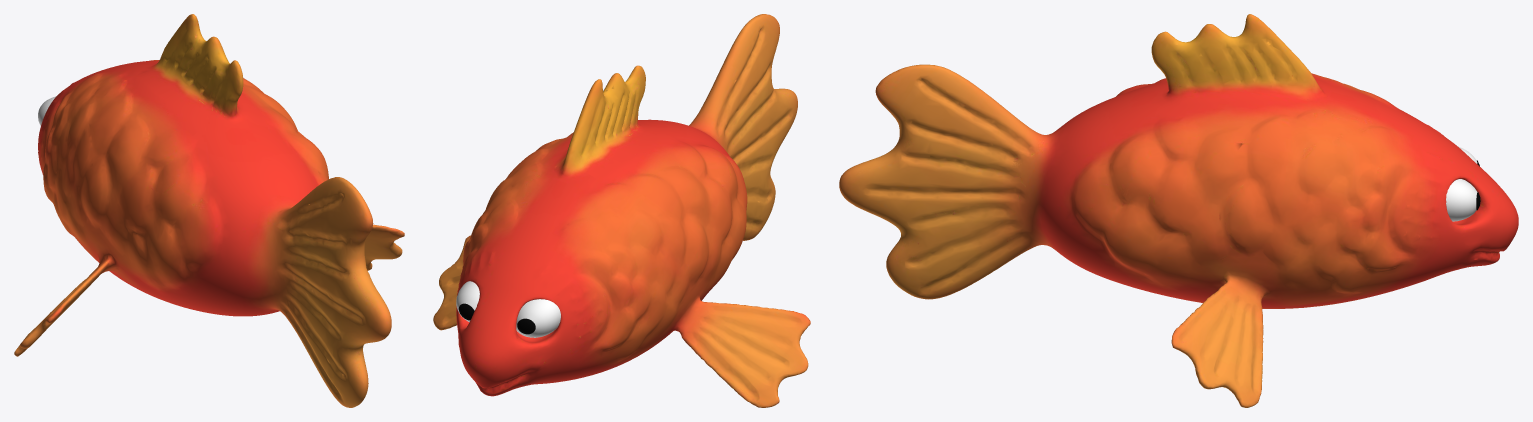
Rendered from fish_sculpt.glb.
3 views of the same model, side by side, from view 1: azimuth 30°, elevation 25°; view 2: azimuth 150°, elevation 25°; view 3: azimuth 270°, elevation 25° (orthographic). The views are drawn at different scales.
Visible parts, largest first — view 1: Cube.001; view 2: Cube.001, Sphere.001; view 3: Cube.001, Sphere.001.
Boxes of the visible parts, box(x1,y1,x2,y2) form: Cube.001: box(14, 14, 404, 407); Cube.001: box(433, 14, 810, 407); Sphere.001: box(456, 281, 560, 337); Cube.001: box(839, 14, 1518, 407); Sphere.001: box(1446, 146, 1480, 221).
Bounding box in the file's own units: 2.25 × 1.68 × 3.35.
3 materials, 1 textured.
